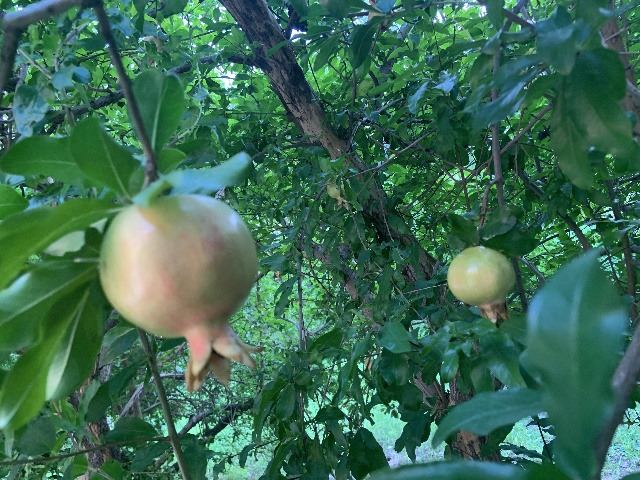mid-growth: (98, 193, 264, 393), (446, 245, 514, 323), (326, 174, 350, 209)
